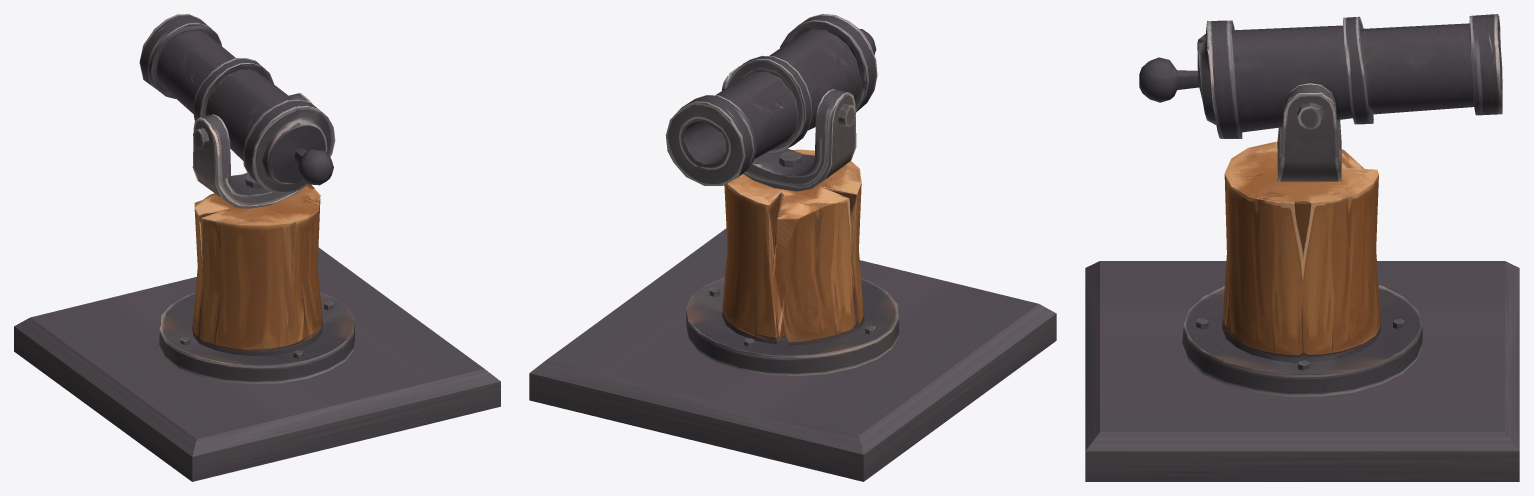
3 renders of one model, left to right at view 1: azimuth 30°, elevation 25°; view 2: azimuth 150°, elevation 25°; view 3: azimuth 270°, elevation 25°, orthographic. The views are drawn at different scales.
Parts seen in each view (by area): view 1: plate, mount, barrel; view 2: plate, mount, barrel; view 3: plate, mount, barrel.
Boxes of the visible parts, x1,y1,x2,y2 form: plate: (14, 247, 500, 481); mount: (159, 93, 355, 383); barrel: (139, 14, 335, 193); plate: (529, 228, 1056, 481); mount: (686, 66, 899, 376); barrel: (665, 14, 877, 185); plate: (1085, 261, 1519, 481); mount: (1182, 83, 1422, 396); barrel: (1139, 14, 1502, 138).
Bounding box in the file's own units: 0.9 × 0.8521 × 0.9.
Materials: 2 (2 with a texture image).
